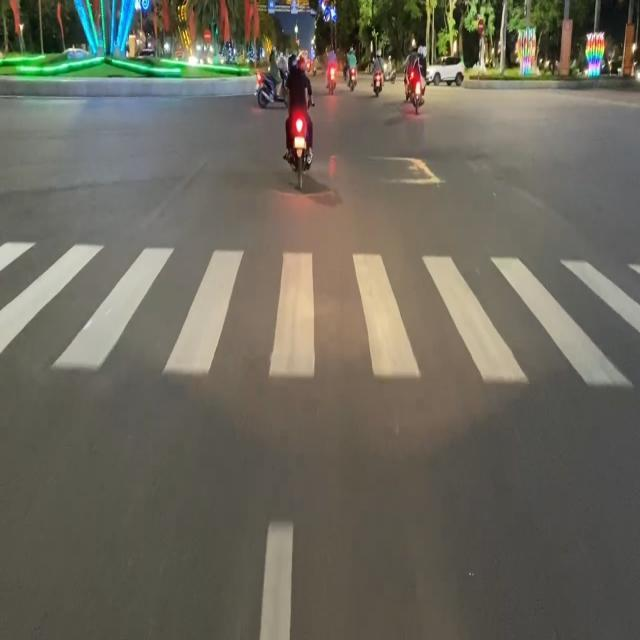walk-crossing: (1, 238, 640, 392)
